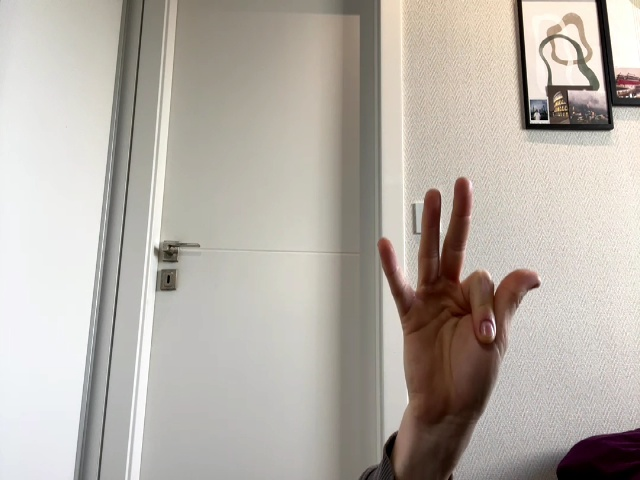F: (377, 179, 543, 416)
